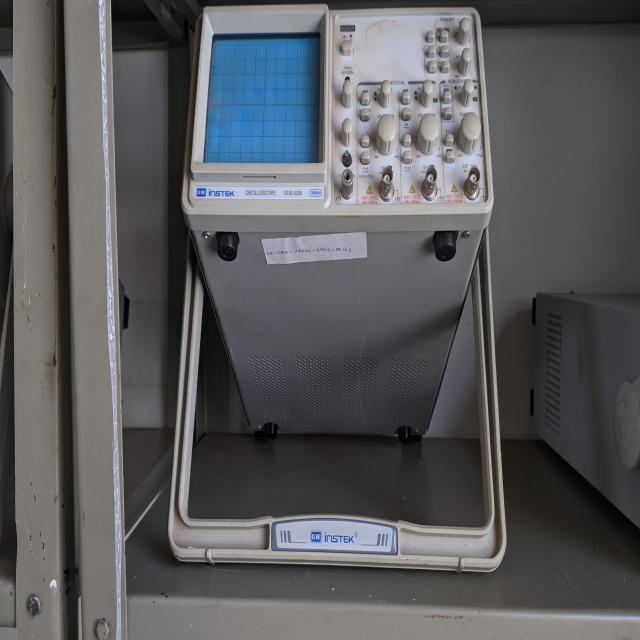Cathode Ray Oscilloscope: (163, 9, 514, 587)
